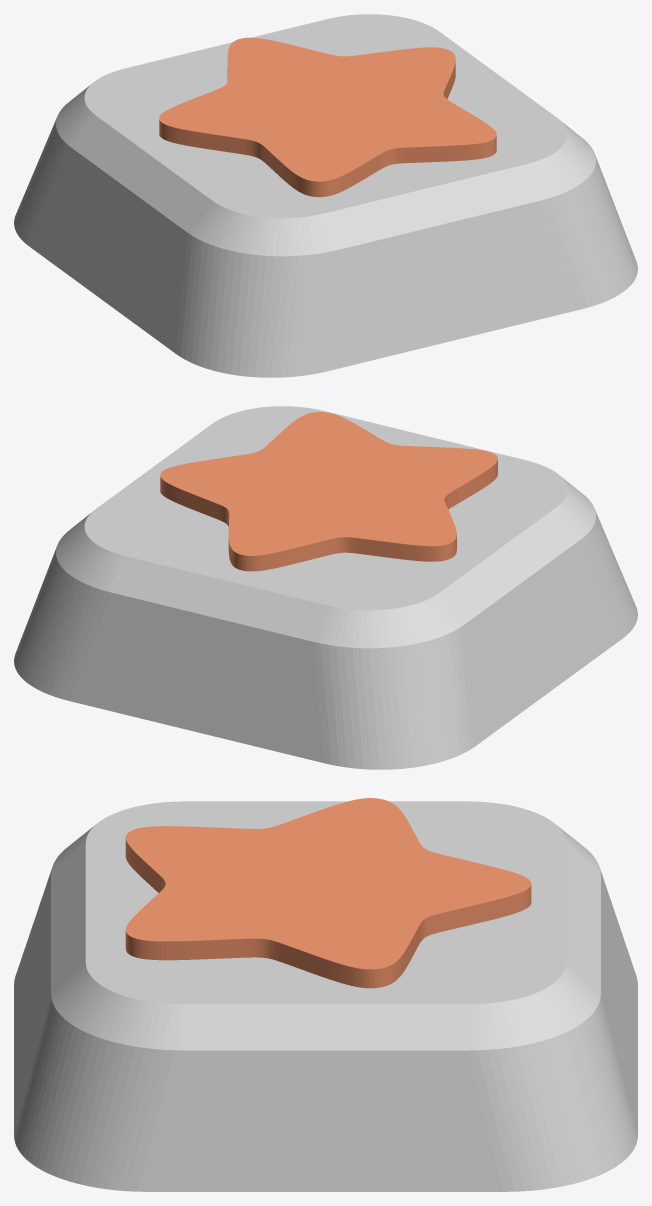
Rendered from cap-star.glb.
3 views of the same model, one above another, from view 1: azimuth 30°, elevation 25°; view 2: azimuth 150°, elevation 25°; view 3: azimuth 270°, elevation 25° (orthographic). The views are drawn at different scales.
Visible parts, largest first — view 1: cap_0, glyph_1; view 2: cap_0, glyph_1; view 3: cap_0, glyph_1.
Boxes of the visible parts, left/top/right/bottom form: cap_0: left=14, top=14, right=637, bottom=377; glyph_1: left=159, top=37, right=496, bottom=197; cap_0: left=14, top=406, right=637, bottom=769; glyph_1: left=160, top=412, right=497, bottom=571; cap_0: left=14, top=801, right=637, bottom=1191; glyph_1: left=125, top=798, right=531, bottom=988.
Size of the model in its own units: 18 by 5.6 by 18.
